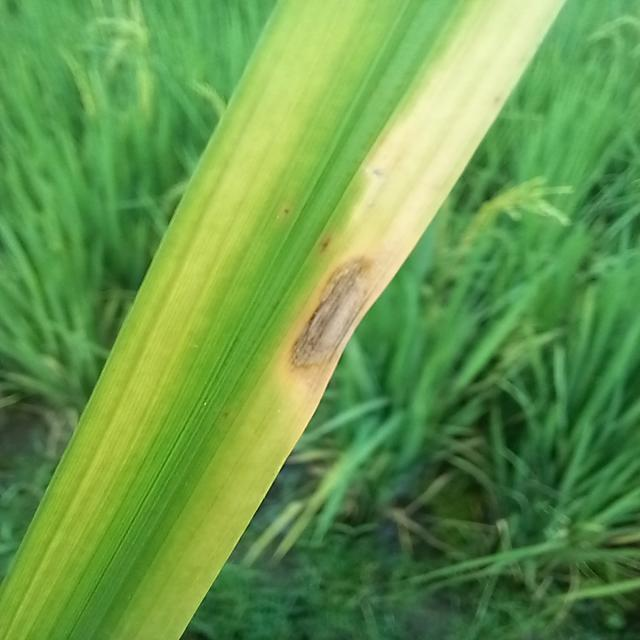Leaf_Blast: (280, 247, 386, 372)
